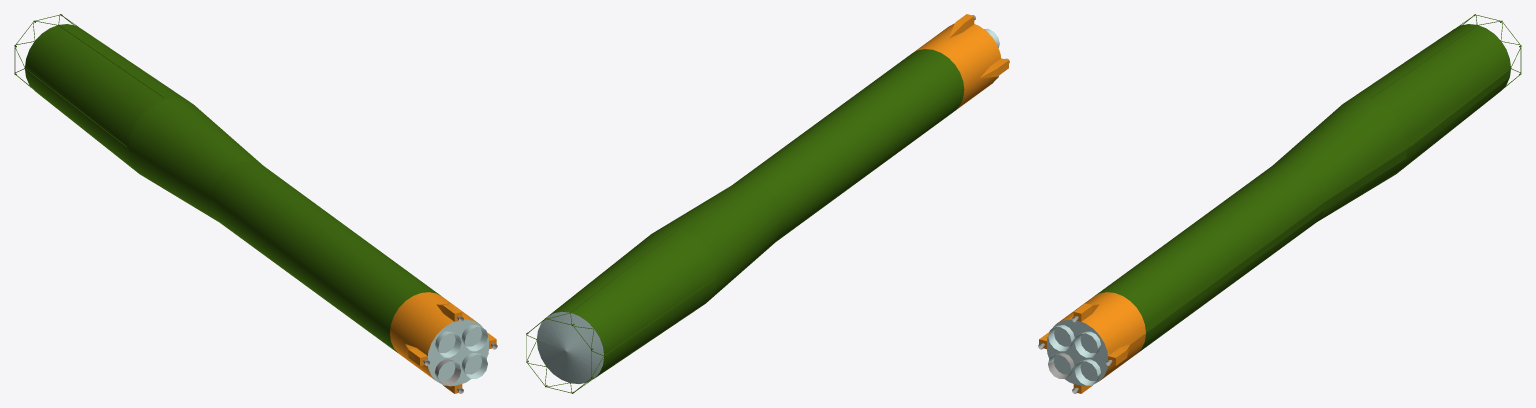
File: r7blocka.obj
The picture shows the model from 3 angles, left to right: view 1: azimuth 30°, elevation 25°; view 2: azimuth 150°, elevation 25°; view 3: azimuth 330°, elevation 25°; orthographic projection.
Parts seen in each view (by area): view 1: group18, group20, group19, group57, group1; view 2: group18, group20, group19, group0, group57; view 3: group18, group20, group19, group57, group1.
Boxes of the visible parts, x1,y1,x2,y2 form: group18: (210, 160, 440, 353); group20: (25, 24, 190, 173); group19: (128, 98, 262, 221); group57: (390, 292, 478, 380); group1: (428, 319, 488, 386); group18: (733, 49, 964, 241); group20: (547, 227, 716, 377); group19: (657, 180, 784, 301); group0: (537, 311, 604, 383); group57: (913, 23, 1000, 109); group18: (1095, 160, 1325, 353); group20: (1343, 24, 1510, 173); group19: (1273, 98, 1407, 221); group57: (1057, 292, 1145, 380); group1: (1047, 319, 1109, 386).
Size of the model in its own units: 2.98 by 2.97 by 27.76.
